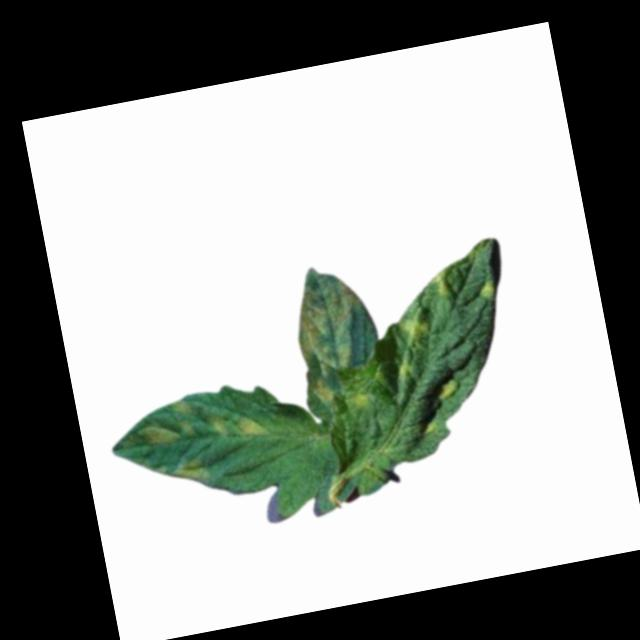Leaf_Mold: (280, 263, 382, 411), (134, 397, 199, 447), (207, 403, 269, 446), (388, 312, 435, 354), (170, 456, 211, 489), (386, 351, 420, 386), (342, 384, 376, 417), (427, 265, 458, 301), (469, 277, 499, 301), (430, 377, 458, 400)
